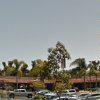Car: (7, 84, 36, 100)
